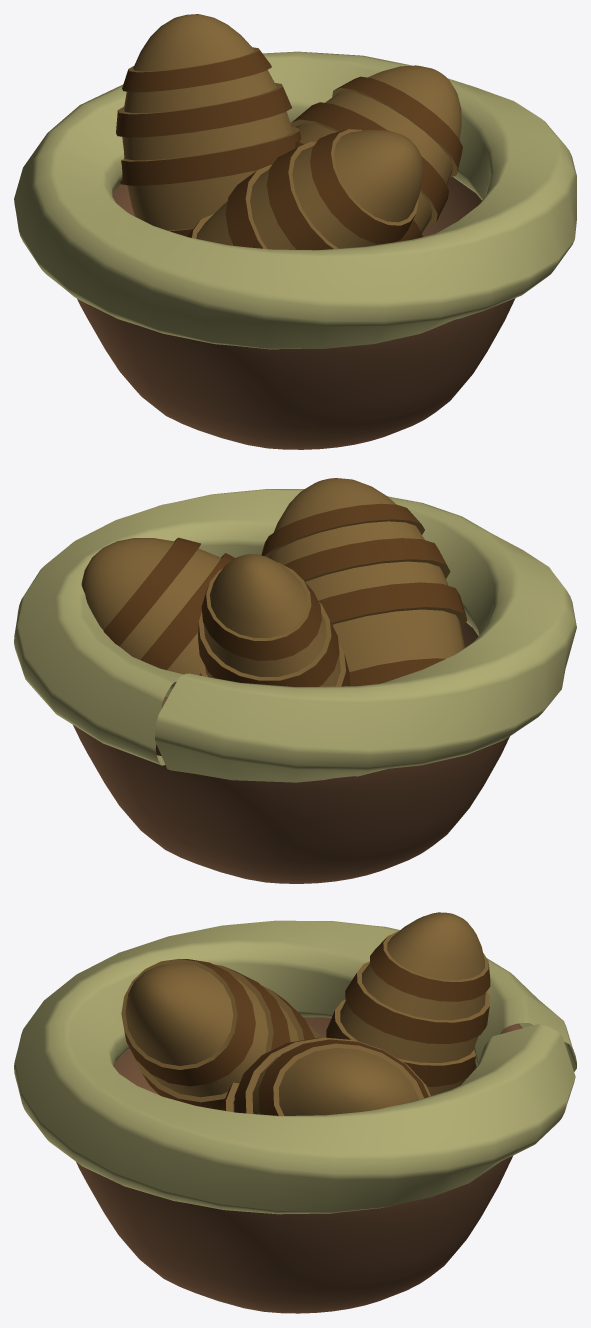
Rendered from Canasta.fbx.
3 renders of one model, top to bottom at view 1: azimuth 30°, elevation 25°; view 2: azimuth 150°, elevation 25°; view 3: azimuth 270°, elevation 25°, orthographic.
Visible parts, largest first — view 1: pSphere9; view 2: pSphere9; view 3: pSphere9.
Boxes of the visible parts, left/top/right/bottom form: pSphere9: left=14, top=14, right=576, bottom=449; pSphere9: left=14, top=478, right=576, bottom=883; pSphere9: left=14, top=912, right=576, bottom=1313.
Size of the model in its own units: 39.39 by 27.01 by 40.
